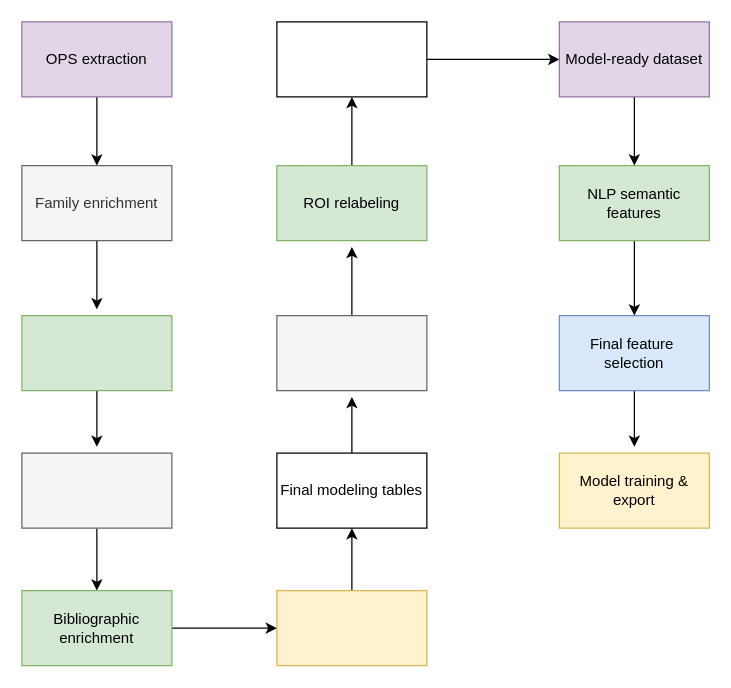
Image size: 731x688. Some labels were removed from this diagram. Each missing label, with the centre of its shape:
"Derived features" belongs at pixel 351 352.
"Legal enrichment" belongs at pixel 96 352.
"Party enrichment" belongs at pixel 351 627.
"Text enrichment" belongs at pixel 96 490.
"Variable transformation" belongs at pixel 351 59.
